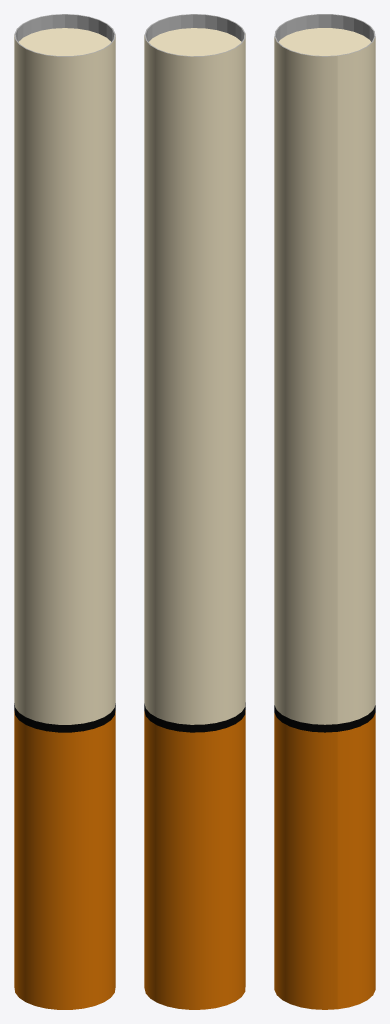
Rendered from cigarette.FBX.
3 views of the same model, side by side, from view 1: azimuth 90°, elevation 25°; view 2: azimuth 150°, elevation 25°; view 3: azimuth 270°, elevation 25° (orthographic).
Parts seen in each view (by area): view 1: cigarette, tabacco; view 2: cigarette, tabacco; view 3: cigarette, tabacco.
Boxes of the visible parts, x1,y1,x2,y2 form: cigarette: (14,14,115,1009); tabacco: (19,28,110,55); cigarette: (144,14,245,1009); tabacco: (149,28,241,56); cigarette: (274,14,375,1009); tabacco: (279,28,370,55).
Bounding box in the file's own units: 10.12 × 105 × 10.14.
